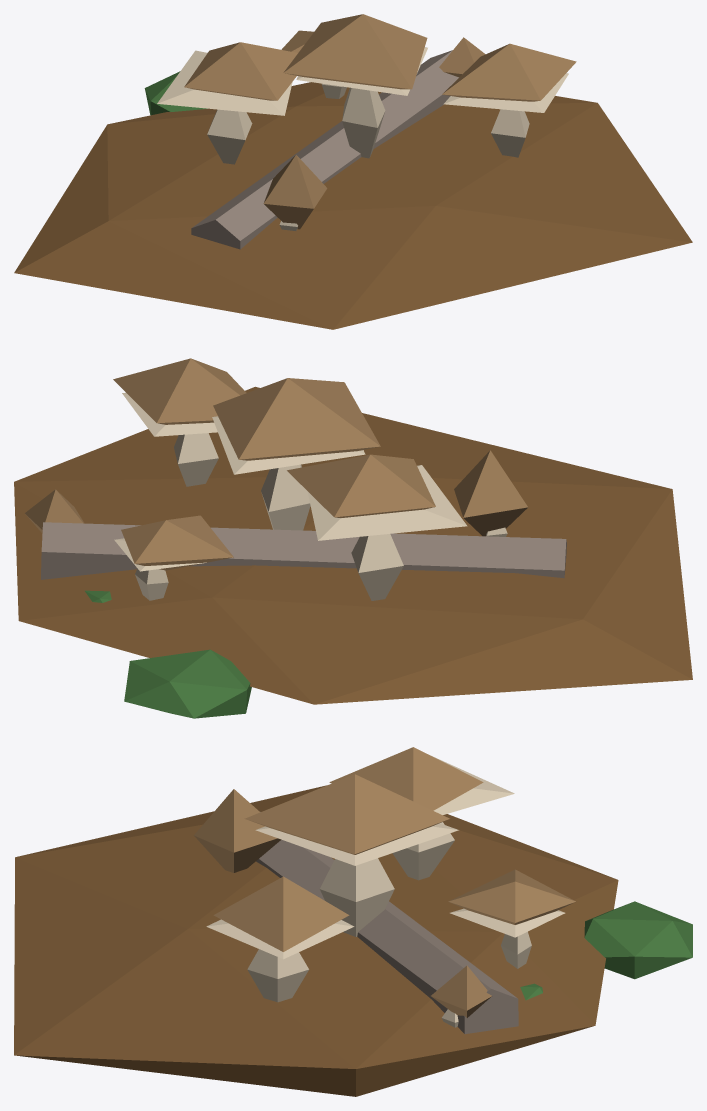
The model's file is mushroom_patch_full.glb.
The picture shows the model from 3 angles, top to bottom: view 1: azimuth 30°, elevation 25°; view 2: azimuth 150°, elevation 25°; view 3: azimuth 270°, elevation 25°; orthographic projection. The views are drawn at different scales.
Visible parts, largest first — view 1: mushroom_patch_full.001; view 2: mushroom_patch_full.001; view 3: mushroom_patch_full.001.
Part boxes in pixels (x1,y1,x2,y2): mushroom_patch_full.001: (14,14,692,329); mushroom_patch_full.001: (14,358,692,718); mushroom_patch_full.001: (14,747,692,1096).
Bounding box in the file's own units: 0.62 × 0.1878 × 0.5526.
